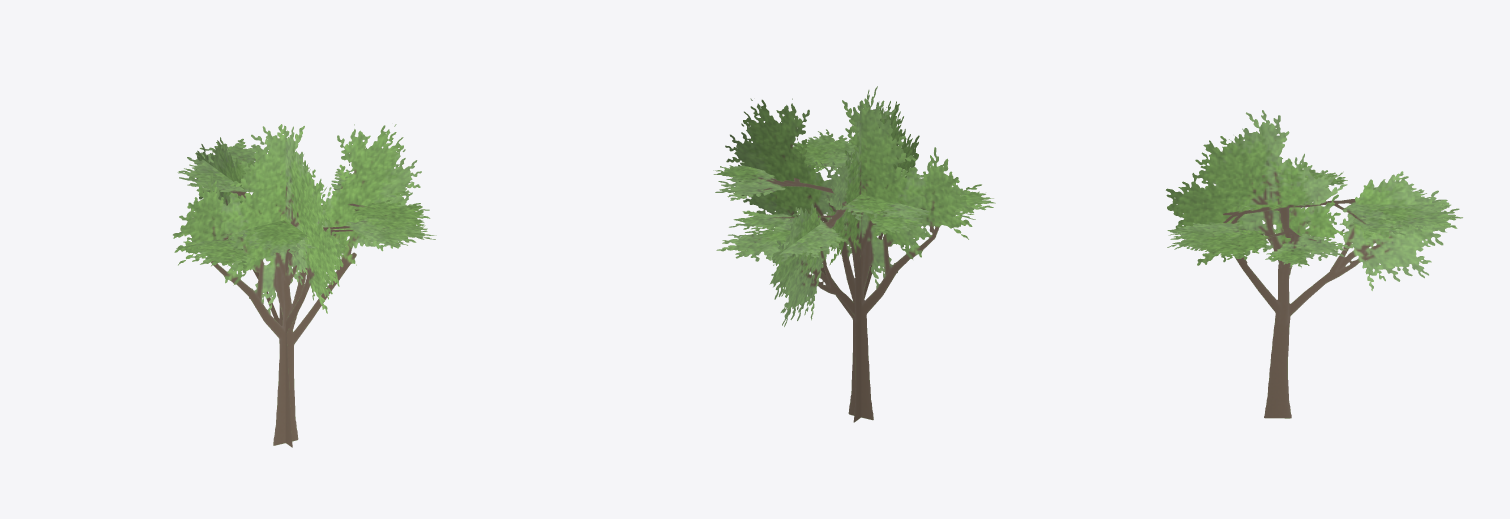
File: oak_1_far.glb
3 views of the same model, side by side, from view 1: azimuth 30°, elevation 25°; view 2: azimuth 150°, elevation 25°; view 3: azimuth 270°, elevation 25° (orthographic). The views are drawn at different scales.
Parts seen in each view (by area): view 1: oak_1_far; view 2: oak_1_far; view 3: oak_1_far.
Part boxes in pixels (box(x1,y1,x2,y2)): oak_1_far: box(173, 124, 436, 447); oak_1_far: box(713, 86, 995, 422); oak_1_far: box(1166, 110, 1462, 418).
Bounding box in the file's own units: 10.84 × 10.84 × 10.84.
Materials: 1 (1 with a texture image).
